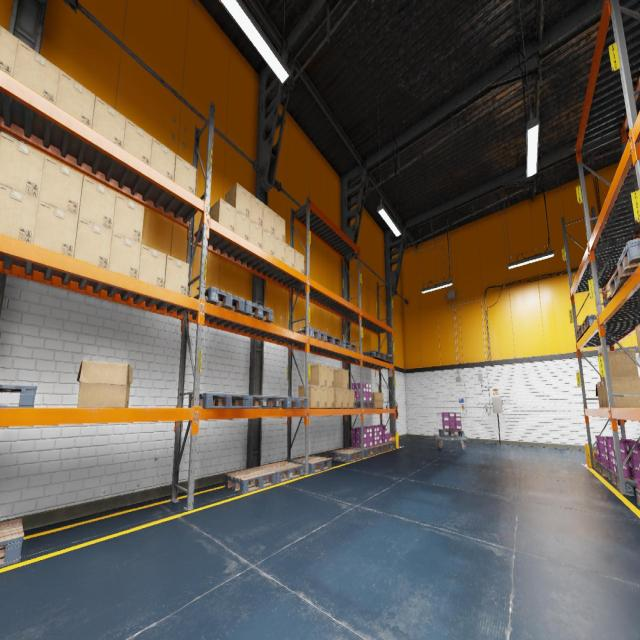box: (0, 131, 45, 200), (13, 39, 60, 104), (76, 360, 132, 408), (39, 156, 83, 217), (33, 200, 78, 257), (56, 70, 96, 128), (0, 183, 38, 243), (78, 176, 116, 230), (74, 218, 112, 269), (92, 96, 126, 148), (112, 193, 144, 243), (109, 232, 141, 279), (124, 118, 152, 166), (597, 349, 639, 380), (138, 244, 166, 288), (150, 137, 176, 181), (604, 377, 640, 408), (164, 255, 189, 295), (0, 25, 18, 76), (210, 198, 236, 232), (225, 183, 250, 218), (174, 155, 196, 194), (234, 209, 250, 241), (298, 384, 319, 408), (250, 193, 263, 227), (309, 364, 327, 386), (262, 203, 274, 235), (249, 219, 262, 248), (274, 212, 286, 242), (262, 228, 274, 256), (334, 368, 349, 388), (274, 236, 285, 262), (285, 243, 295, 268), (369, 392, 384, 408), (295, 250, 304, 274), (601, 380, 608, 408), (597, 381, 604, 408), (334, 388, 343, 408), (319, 386, 327, 408), (635, 324, 640, 359), (327, 366, 334, 387), (327, 387, 334, 408), (349, 388, 355, 408), (343, 388, 349, 408), (596, 384, 600, 408), (638, 76, 640, 86)
pallets: (190, 286, 245, 314), (224, 467, 276, 494), (0, 518, 24, 568), (609, 262, 640, 298), (259, 461, 303, 484), (616, 238, 640, 280), (188, 393, 248, 408), (0, 384, 37, 408), (235, 300, 273, 323), (293, 455, 332, 474), (610, 471, 638, 494), (296, 327, 327, 342), (331, 448, 363, 462), (248, 395, 279, 408), (272, 397, 307, 408), (581, 314, 597, 334), (350, 446, 378, 457), (321, 335, 342, 347), (360, 350, 384, 360), (336, 341, 356, 352), (438, 429, 465, 437), (601, 464, 612, 482), (372, 444, 388, 454), (594, 458, 602, 474), (379, 353, 393, 362), (382, 442, 396, 451), (576, 325, 584, 340), (355, 402, 374, 408), (635, 489, 640, 507), (606, 294, 612, 305)
